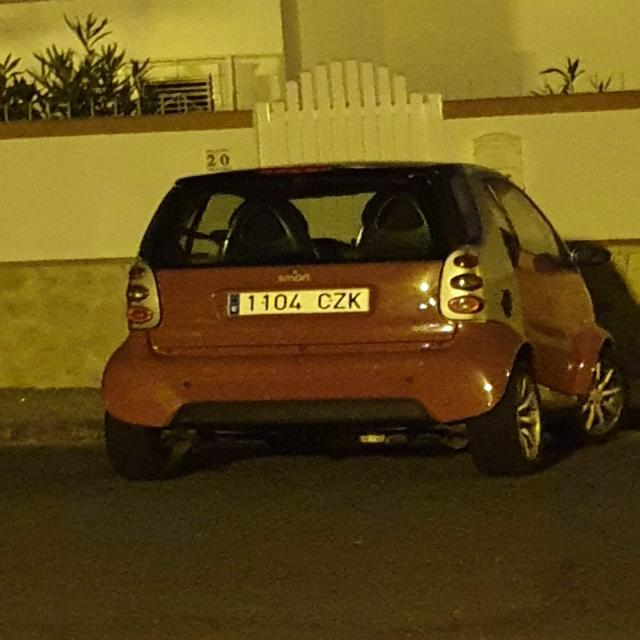License-Plate: (224, 286, 372, 314)
